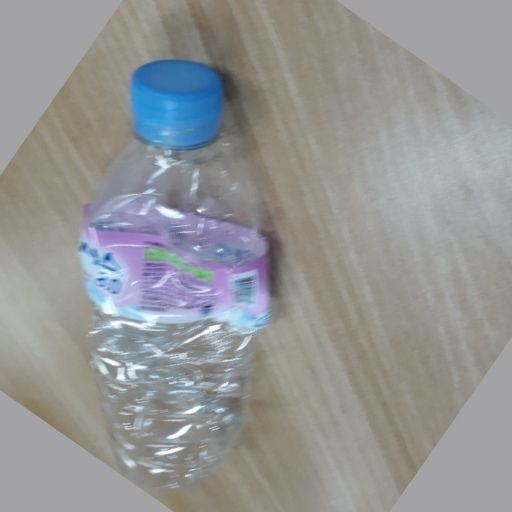Plastic_0: (80, 62, 273, 498)
